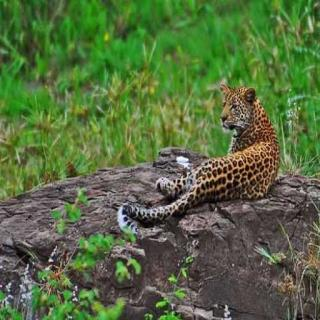Leopard: (110, 71, 299, 234)
